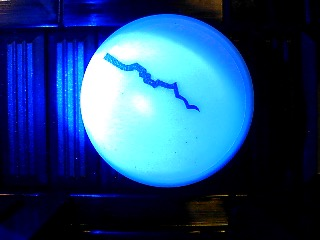CRACK: (79, 13, 255, 187)
